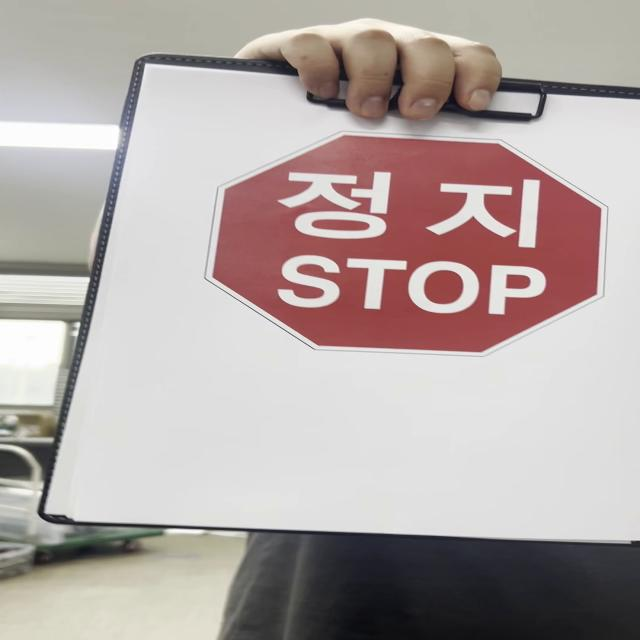stop: (207, 129, 613, 356)
